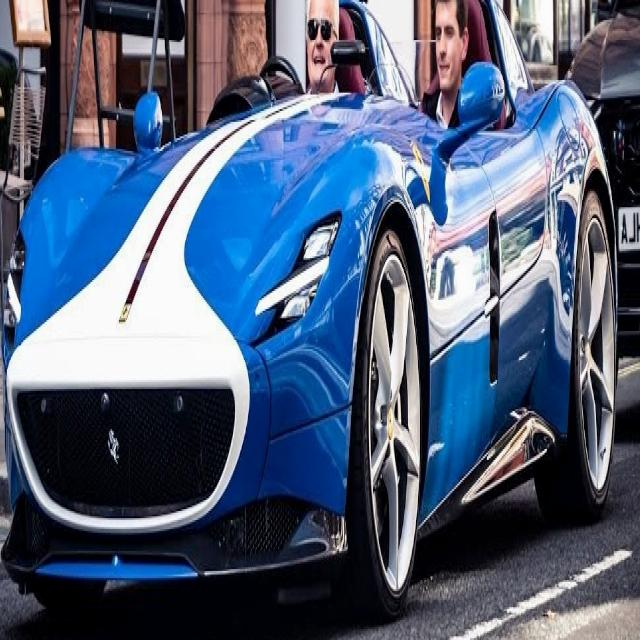blue: (0, 0, 615, 640)
